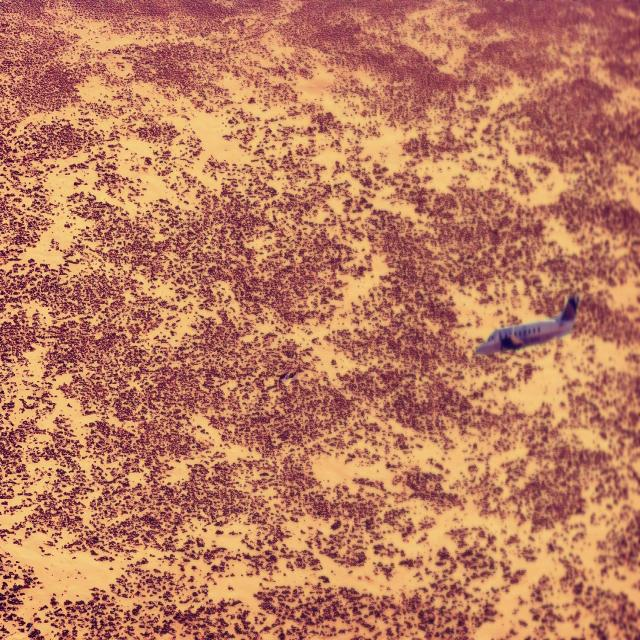airplane: (474, 293, 580, 356)
